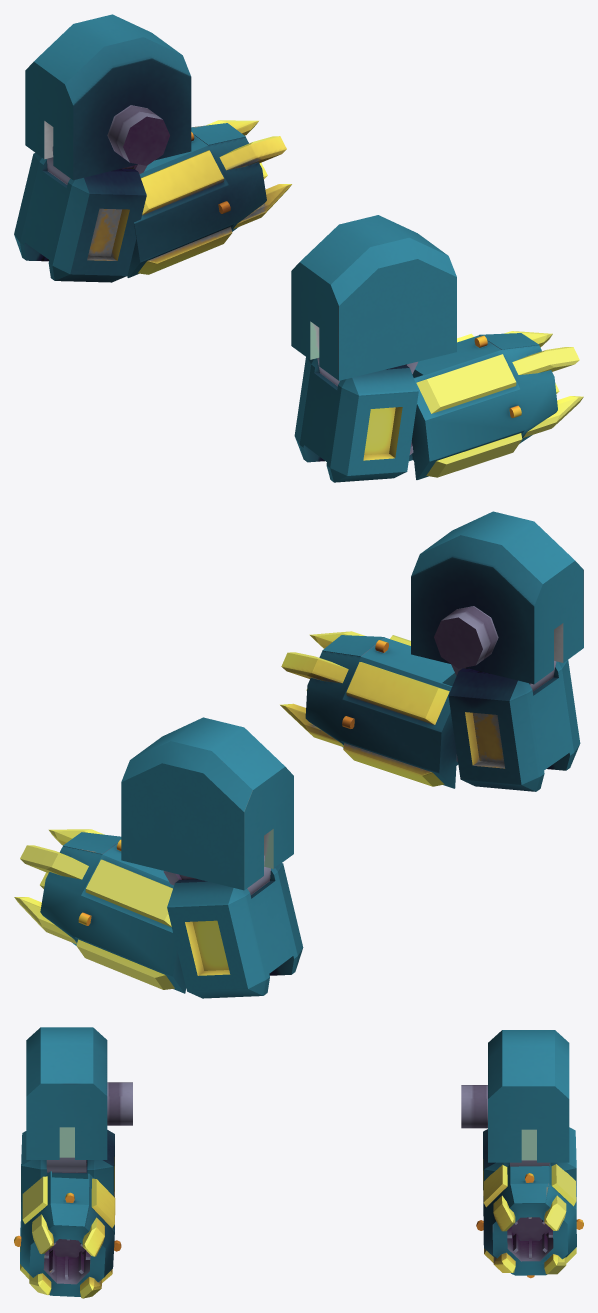
The model's file is Player_Attack_Arm13.obj.
3 renders of one model, top to bottom at view 1: azimuth 30°, elevation 25°; view 2: azimuth 150°, elevation 25°; view 3: azimuth 270°, elevation 25°, orthographic. The views are drawn at different scales.
Visible parts, largest first — view 1: Object005, Object003, Object001, Object007, Object006, Object002; view 2: Object003, Object005, Object001, Object007, Object006, Object002; view 3: Object005, Object003, Object001, Object007, Object002, Object006.
Part boxes in pixels (x1=…): Object005: x1=25, y1=14, x2=191, y2=180; Object003: x1=291, y1=215, x2=456, y2=380; Object001: x1=409, y1=331, x2=583, y2=479; Object007: x1=127, y1=120, x2=291, y2=277; Object006: x1=14, y1=146, x2=147, y2=282; Object002: x1=294, y1=357, x2=418, y2=482; Object003: x1=411, y1=511, x2=583, y2=684; Object005: x1=121, y1=717, x2=293, y2=890; Object001: x1=280, y1=631, x2=458, y2=788; Object007: x1=14, y1=829, x2=185, y2=993; Object006: x1=163, y1=855, x2=303, y2=998; Object002: x1=448, y1=660, x2=580, y2=791; Object005: x1=461, y1=1030, x2=569, y2=1162; Object003: x1=26, y1=1027, x2=132, y2=1159; Object001: x1=14, y1=1171, x2=121, y2=1298; Object007: x1=476, y1=1163, x2=583, y2=1278; Object002: x1=21, y1=1130, x2=114, y2=1214; Object006: x1=483, y1=1127, x2=576, y2=1203.
Size of the model in its own units: 37.56 by 34.36 by 83.71.
1 material, 1 textured.
